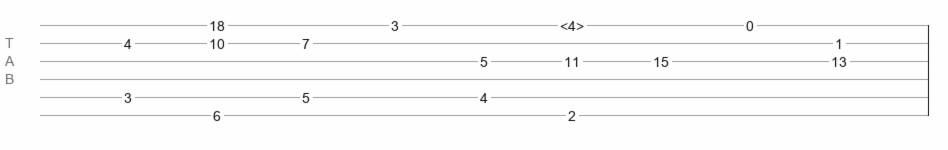0: (746, 18, 754, 28)
1: (835, 36, 843, 46)
10: (209, 36, 225, 46)
11: (564, 54, 580, 64)
13: (831, 54, 847, 64)
15: (653, 54, 669, 64)
18: (209, 18, 225, 28)
2: (568, 108, 576, 118)
3: (124, 90, 132, 100), (391, 18, 399, 28)
4: (124, 36, 132, 46), (480, 90, 488, 100)
5: (302, 90, 310, 100), (480, 54, 488, 64)
6: (213, 108, 221, 118)
7: (302, 36, 310, 46)
harmonic: (560, 18, 584, 28)
